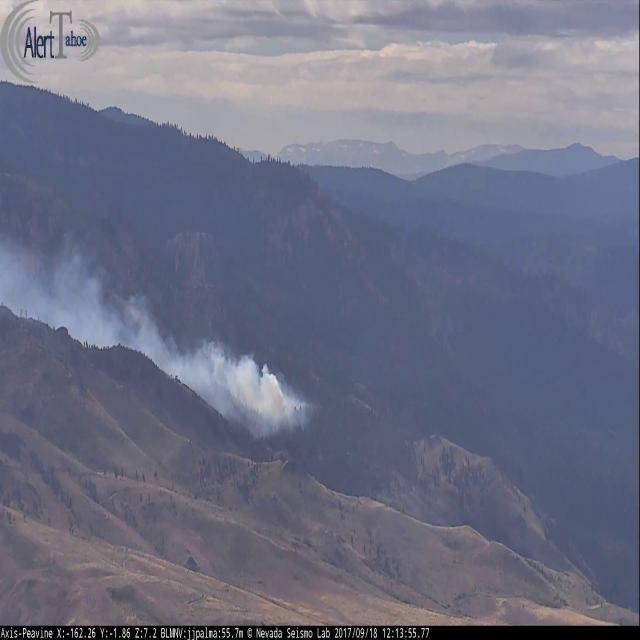smoke: (2, 207, 329, 466)
